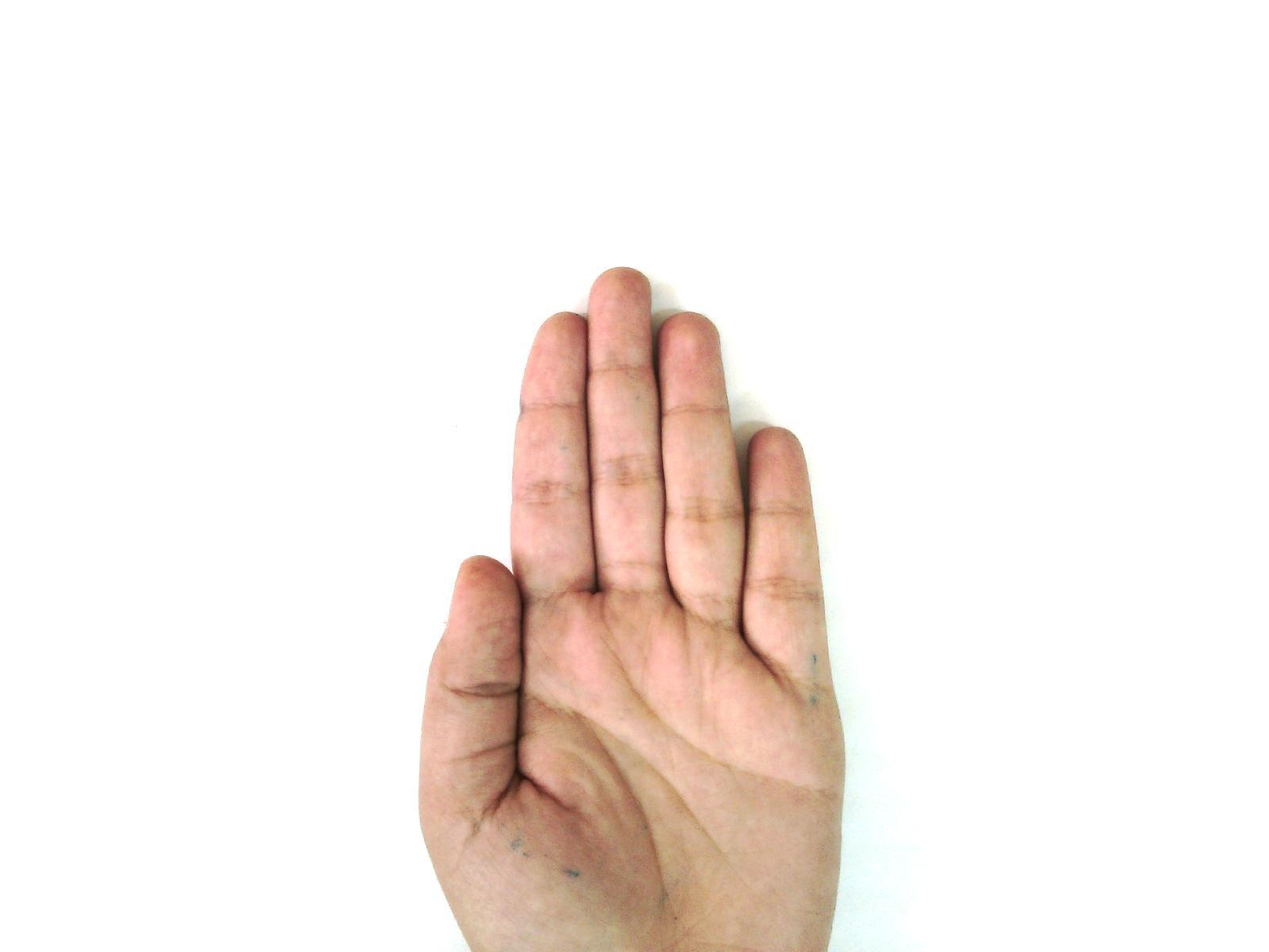open_palm: (415, 266, 850, 951)
